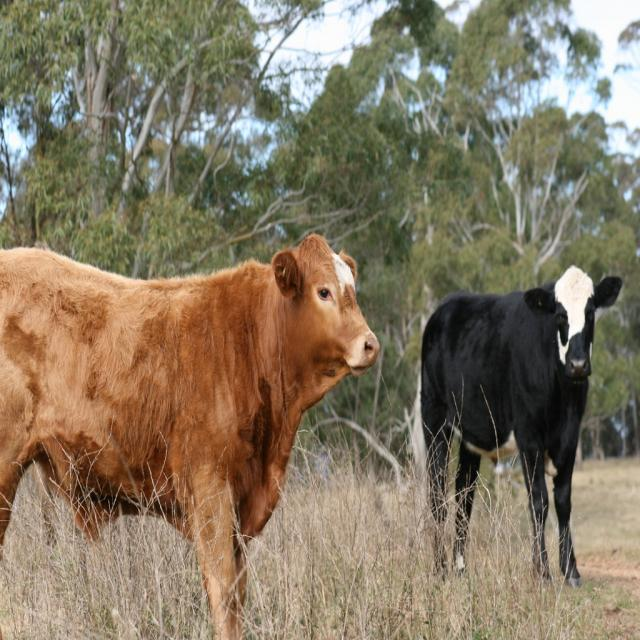Cattle: (0, 233, 380, 640), (420, 264, 622, 590)
